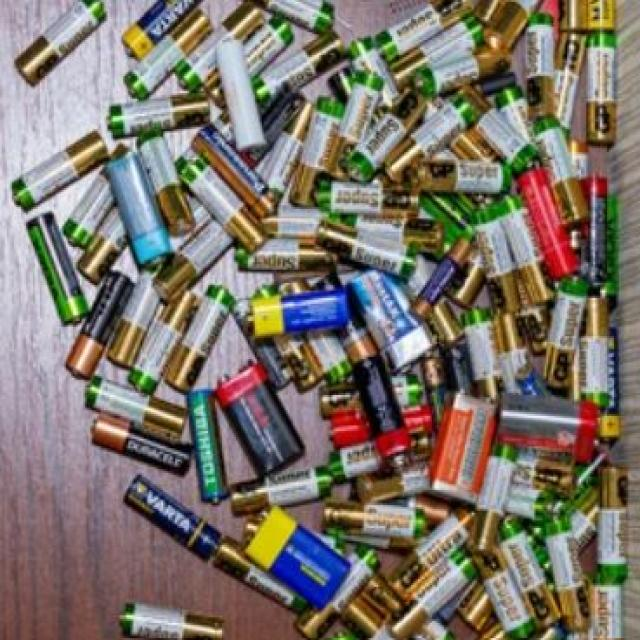electronic: (69, 256, 147, 405), (7, 128, 128, 215), (306, 213, 440, 286), (348, 74, 424, 186), (396, 148, 525, 212), (237, 283, 361, 346), (294, 88, 344, 220), (513, 14, 562, 111)
